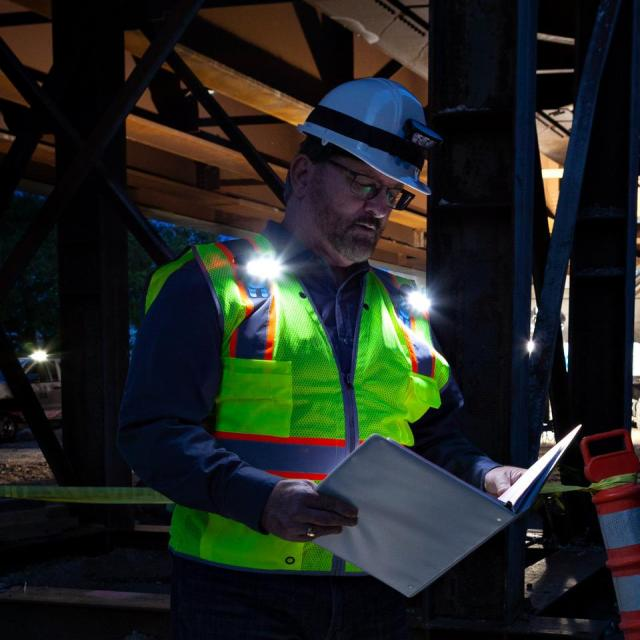Reflective-Jacket: (143, 232, 451, 556)
Safety-Helmet: (293, 72, 435, 196)
